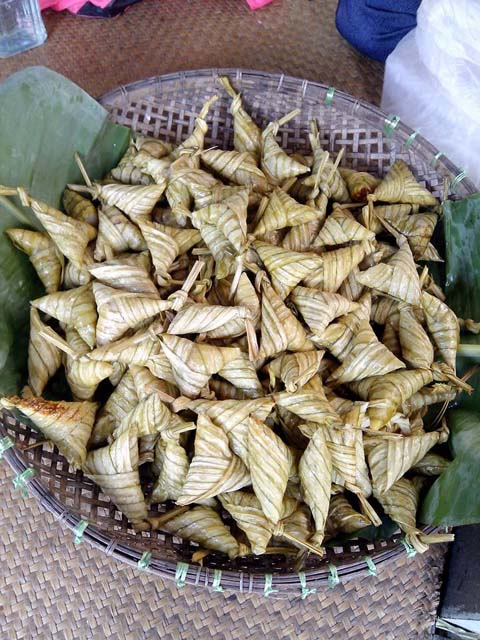kanomtom: (73, 425, 156, 541), (239, 269, 321, 372), (83, 270, 174, 353), (351, 230, 433, 318), (78, 173, 176, 230), (185, 195, 258, 264)
